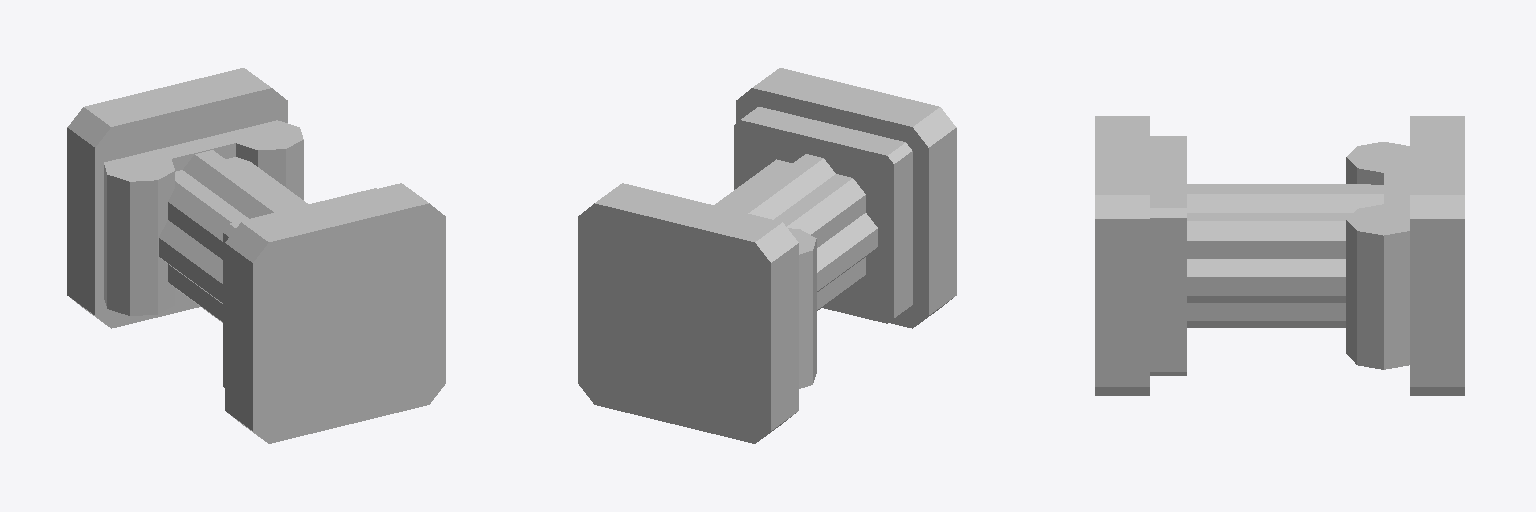
File: column.001.obj
The picture shows the model from 3 angles: view 1: azimuth 30°, elevation 25°; view 2: azimuth 150°, elevation 25°; view 3: azimuth 270°, elevation 25°; orthographic projection.
Visible parts, largest first — view 1: column.001; view 2: column.001; view 3: column.001.
Boxes of the visible parts, <box> form: column.001: <box>67,68,445,443</box>; column.001: <box>578,68,956,443</box>; column.001: <box>1095,116,1464,395</box>.
Size of the model in its own units: 0.6031 by 0.6 by 1.